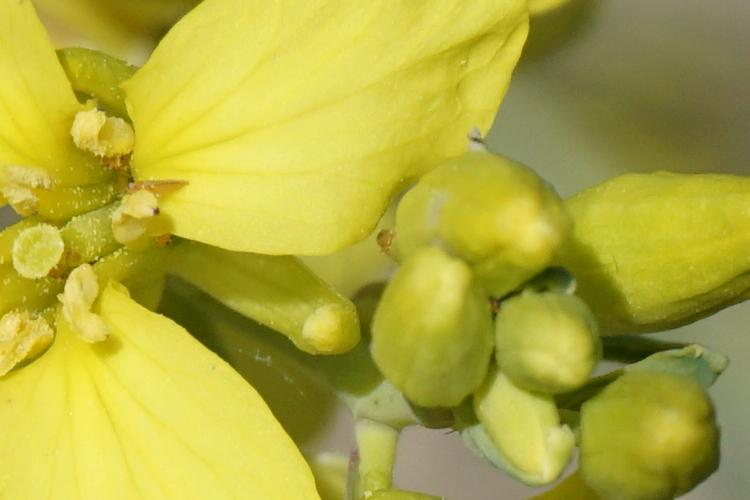bud: (549, 137, 750, 334), (387, 145, 585, 291), (563, 339, 727, 500), (363, 253, 502, 410), (456, 367, 587, 480), (495, 266, 610, 388)
yellow: (7, 3, 491, 495)
